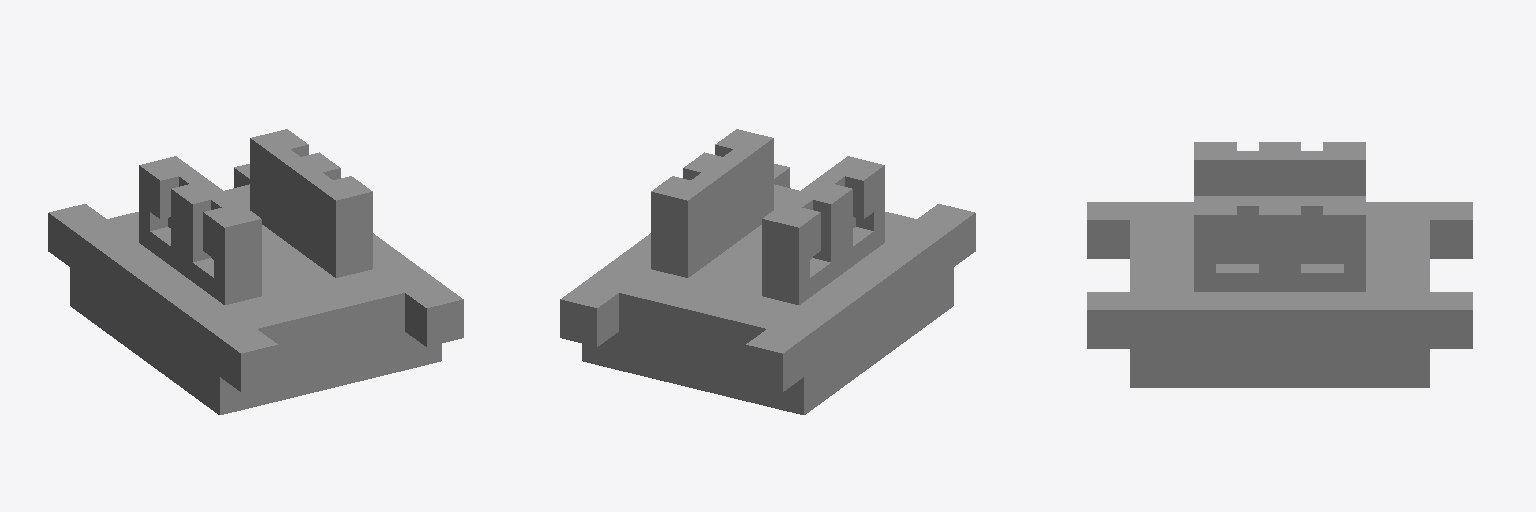
The picture shows the model from 3 angles: view 1: azimuth 30°, elevation 25°; view 2: azimuth 150°, elevation 25°; view 3: azimuth 270°, elevation 25°; orthographic projection.
Visible parts, largest first — view 1: Model; view 2: Model; view 3: Model.
Part boxes in pixels (left/top/right/bottom): Model: left=48, top=129, right=463, bottom=414; Model: left=560, top=129, right=975, bottom=414; Model: left=1087, top=142, right=1472, bottom=387.
Bounding box in the file's own units: 3 × 2 × 4.5.
Materials: 1 (1 with a texture image).